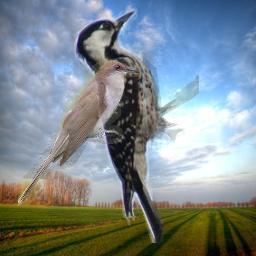Cuckoo: (18, 60, 142, 205)
Woodpecker: (73, 6, 199, 243)
